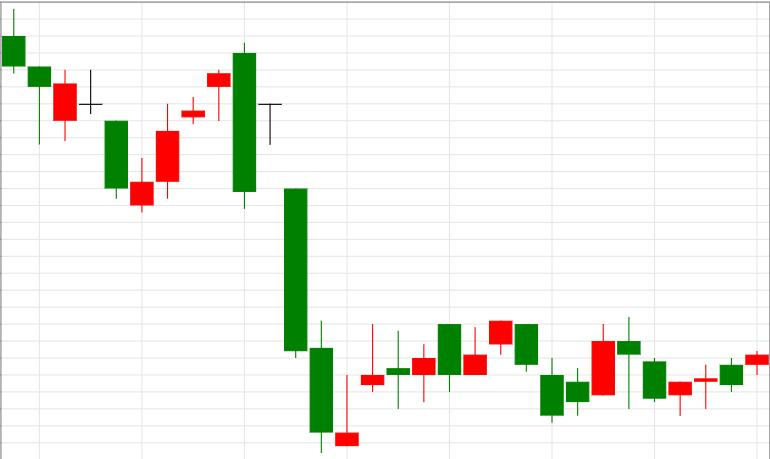bearish_engulfing_fall: (130, 42, 256, 212)
inverse_hammer_rise: (233, 42, 359, 452)
